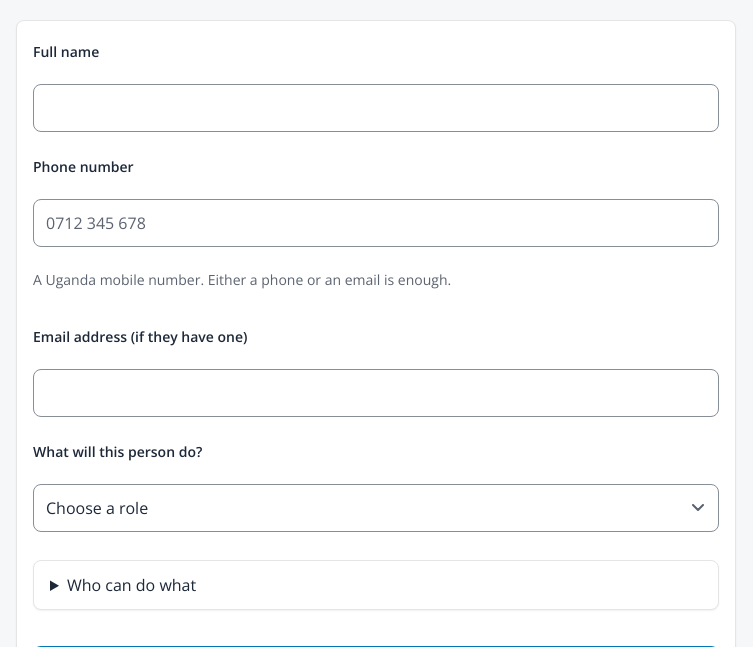
Test: the invite form › shows the plain-language description of the chosen role and asks for a branch unless it is the administrator
Type "Test Cashier 05" into the field labelled "Full name" at {"x": 376, "y": 108}, box top-left (33, 84), bottom-right (719, 132)
Type "0700 000 005" into the field labelled "Phone number" at {"x": 376, "y": 223}, box top-left (33, 199), bottom-right (719, 247)
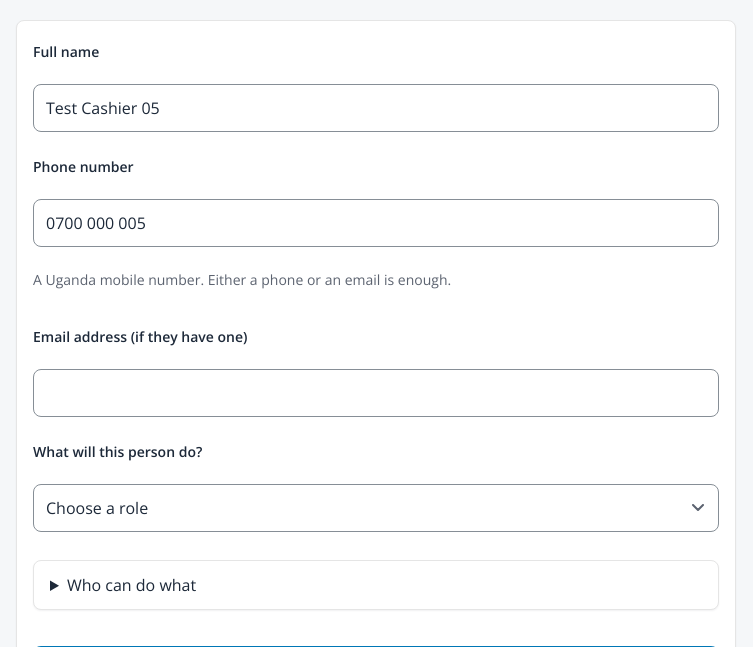
Select "Cashier" in the dropdown labelled "What will this person do?" at {"x": 376, "y": 508}, box top-left (33, 484), bottom-right (719, 532)
(page scrolled)
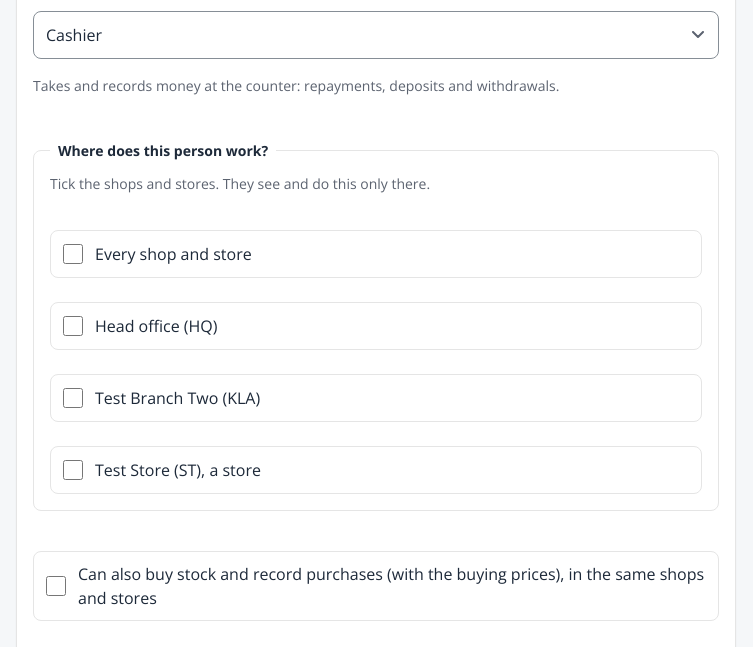
Click the checkbox labelled "Every shop and store" at {"x": 73, "y": 254}, box top-left (63, 244), bottom-right (83, 264)
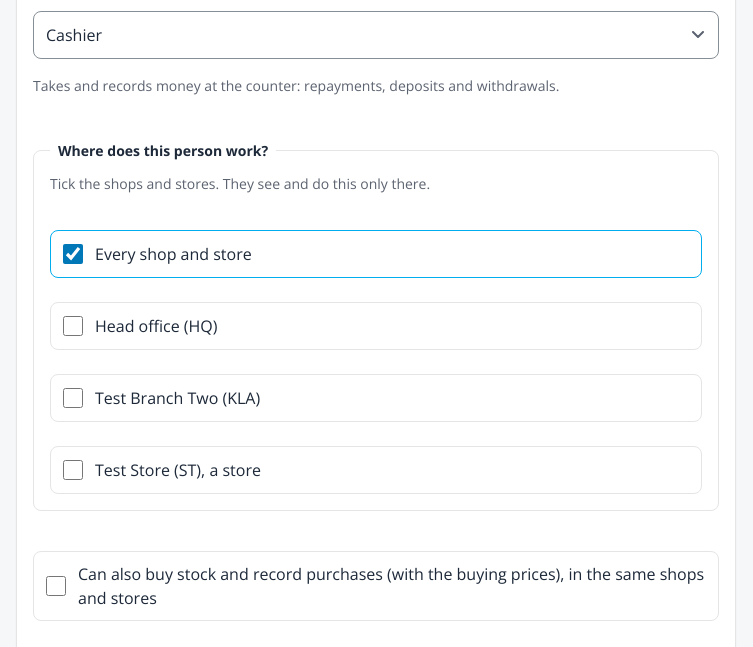
Now the checkbox labelled "Every shop and store" is checked
Now the text "Takes and records money at the counter" is shown, box top-left (33, 76), bottom-right (559, 95)
Now the element "Where does this person work?" is shown, box top-left (33, 140), bottom-right (719, 511)
Click the checkbox labelled "Every shop and store" at {"x": 73, "y": 254}, box top-left (63, 244), bottom-right (83, 264)
(page scrolled)
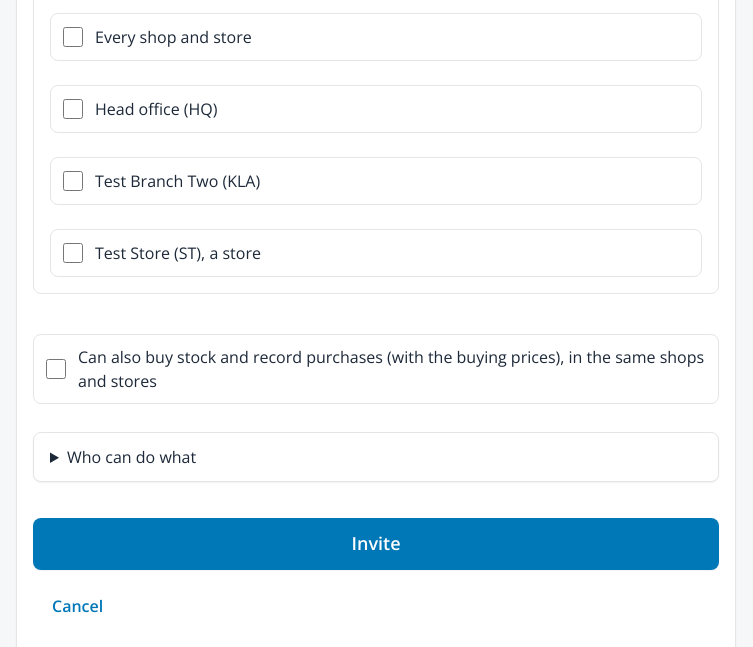
Click the button "Invite" at {"x": 376, "y": 544}, box top-left (33, 518), bottom-right (719, 570)
(page scrolled)
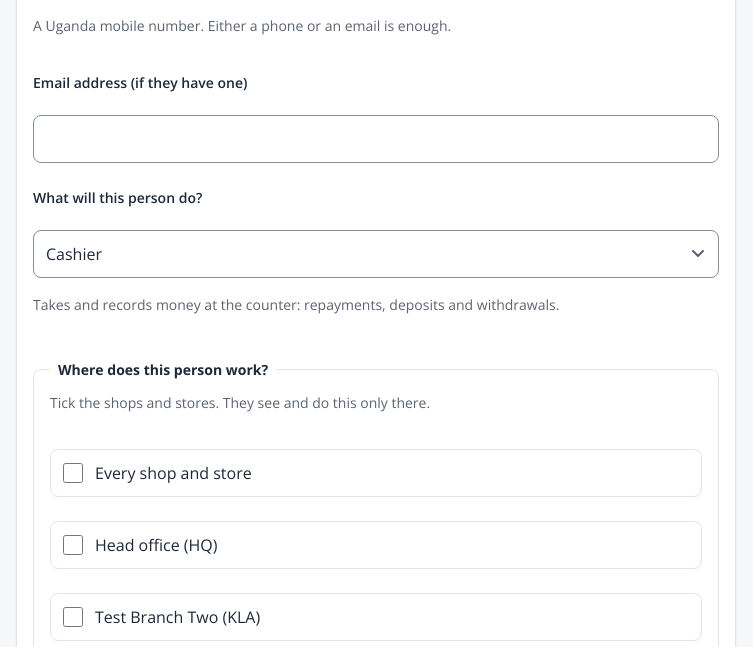
Now the checkbox labelled "Test Branch Two (KLA)" is shown, box top-left (63, 607), bottom-right (83, 627)
Select "Administrator" in the dropdown labelled "What will this person do?" at {"x": 376, "y": 254}, box top-left (33, 230), bottom-right (719, 278)
(page scrolled)
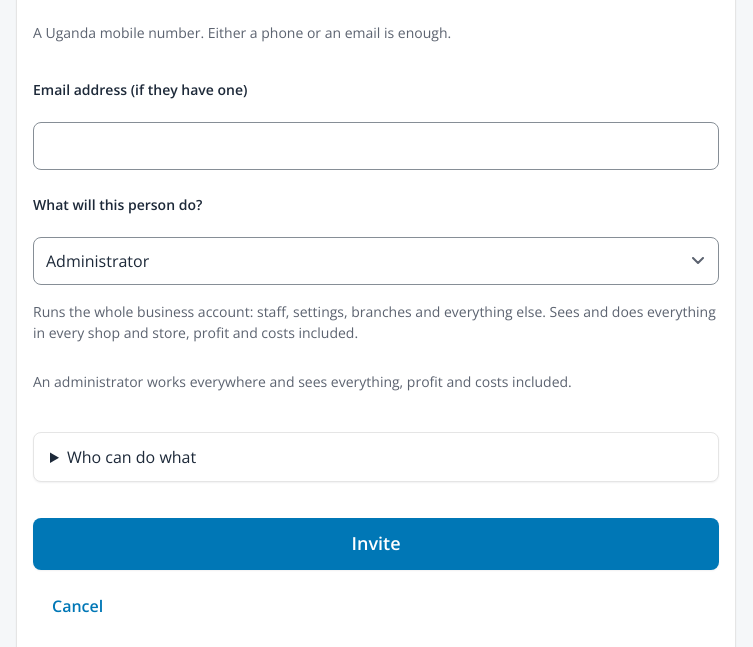
Now the text "Where does this person work?" is gone
Now the text "An administrator works everywhere and sees everything" is shown, box top-left (33, 372), bottom-right (572, 391)
